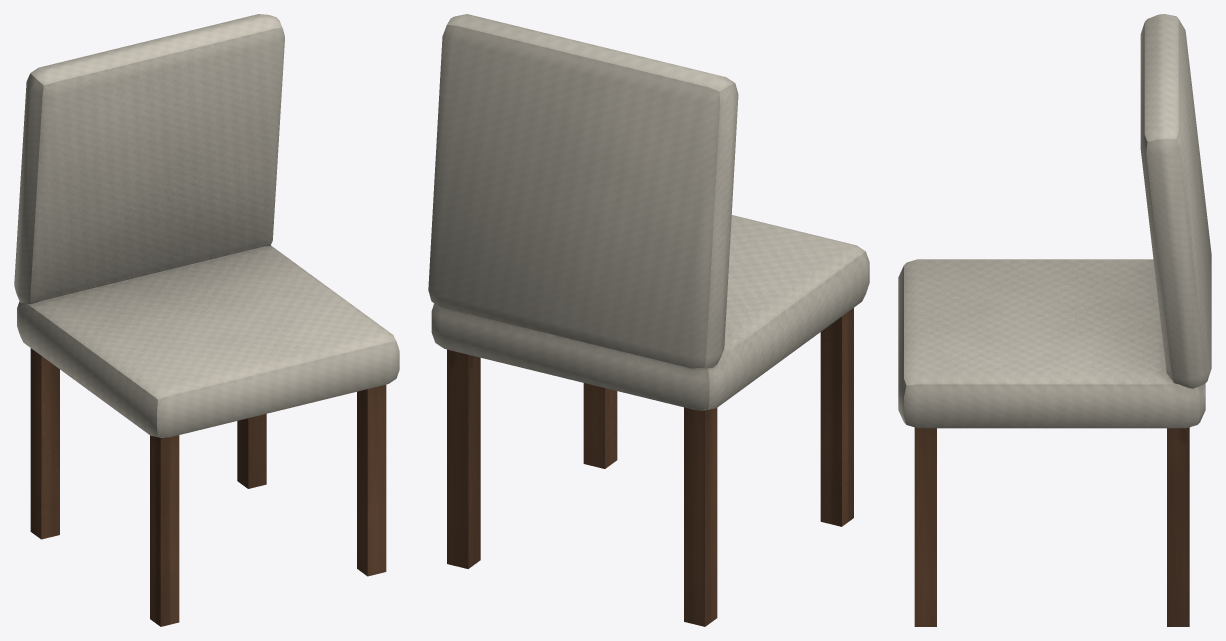
Rendered from H_DiningChair.fbx.
3 renders of one model, left to right at view 1: azimuth 30°, elevation 25°; view 2: azimuth 150°, elevation 25°; view 3: azimuth 270°, elevation 25°, orthographic. The views are drawn at different scales.
Parts seen in each view (by area): view 1: H_DiningChair; view 2: H_DiningChair; view 3: H_DiningChair.
Boxes of the visible parts, x1,y1,x2,y2 form: H_DiningChair: (14, 14, 399, 626); H_DiningChair: (428, 14, 869, 626); H_DiningChair: (898, 14, 1211, 626).
Size of the model in its own units: 190 by 339 by 194.
1 material, 1 textured.
